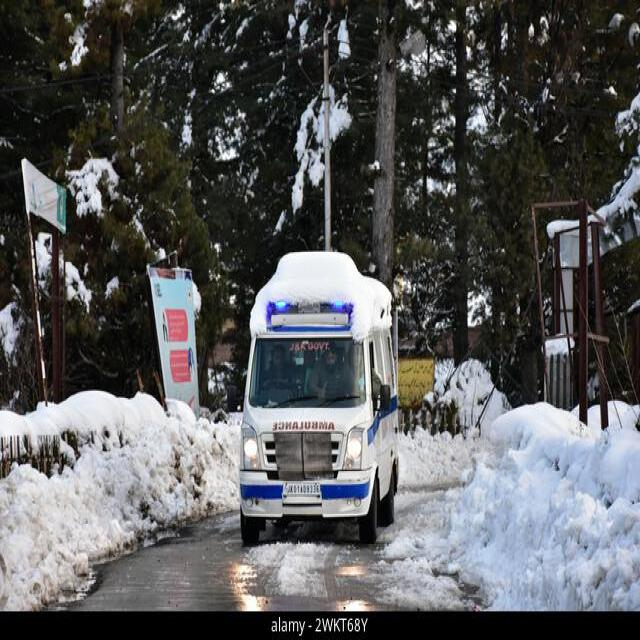emergency: (240, 252, 398, 544)
